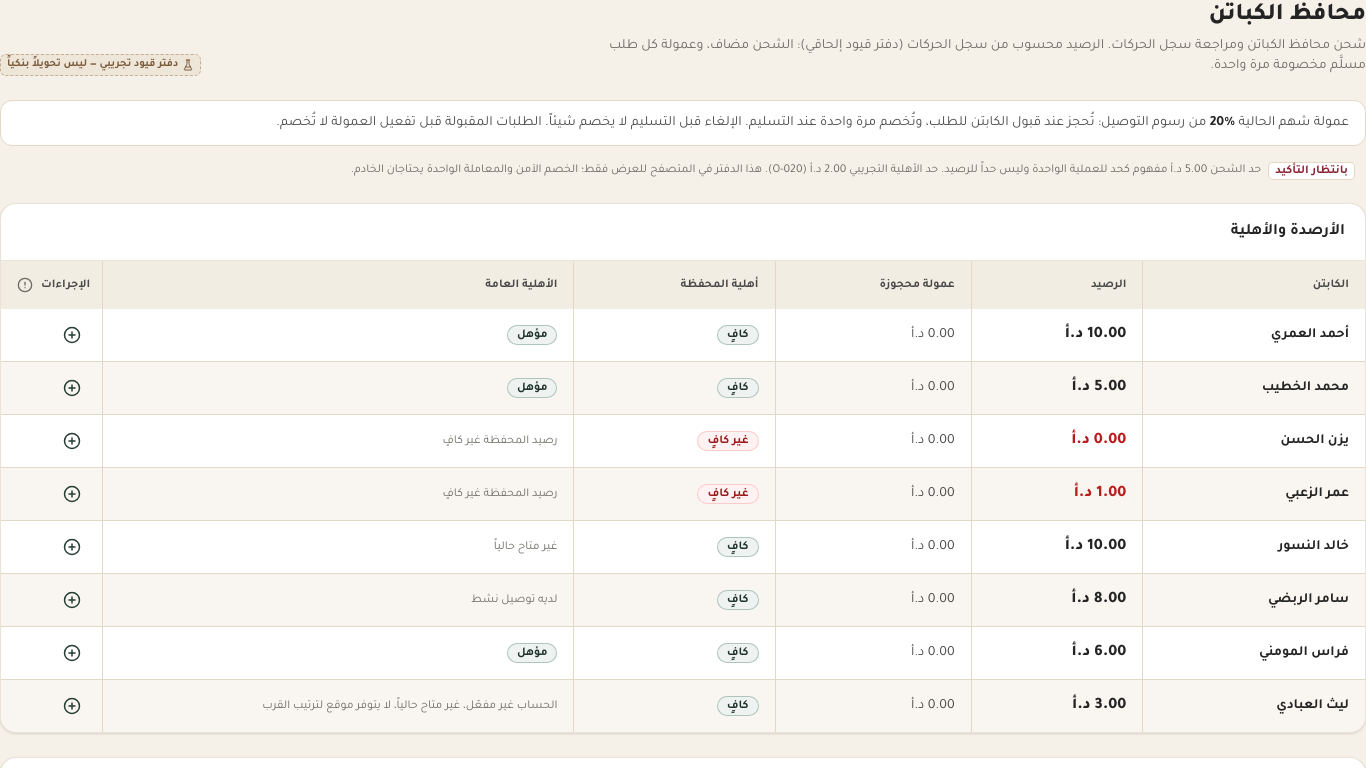
Test: 7 · top-up dialog: no «المرجع / السبب», 5 JOD cap, receipt confirmation › records exactly one credit
The image size is (1366, 768).
Later steps or results of the test are not shown.
Click the button named "شحن محفظة أحمد العمري". click: point(72, 335)
box: [54, 317, 90, 353]
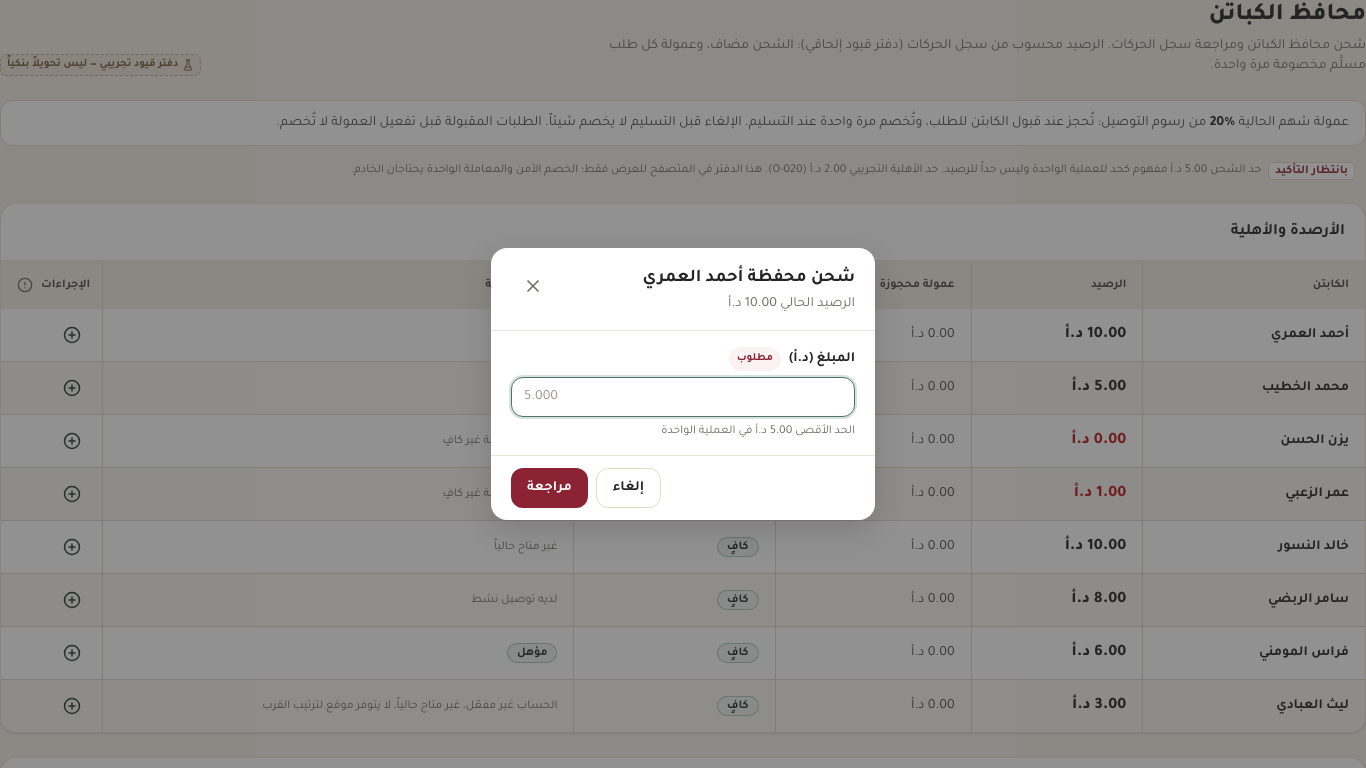
Type "6" into the field with placeholder "5.000". click: point(683, 397)
box: [511, 377, 855, 417]
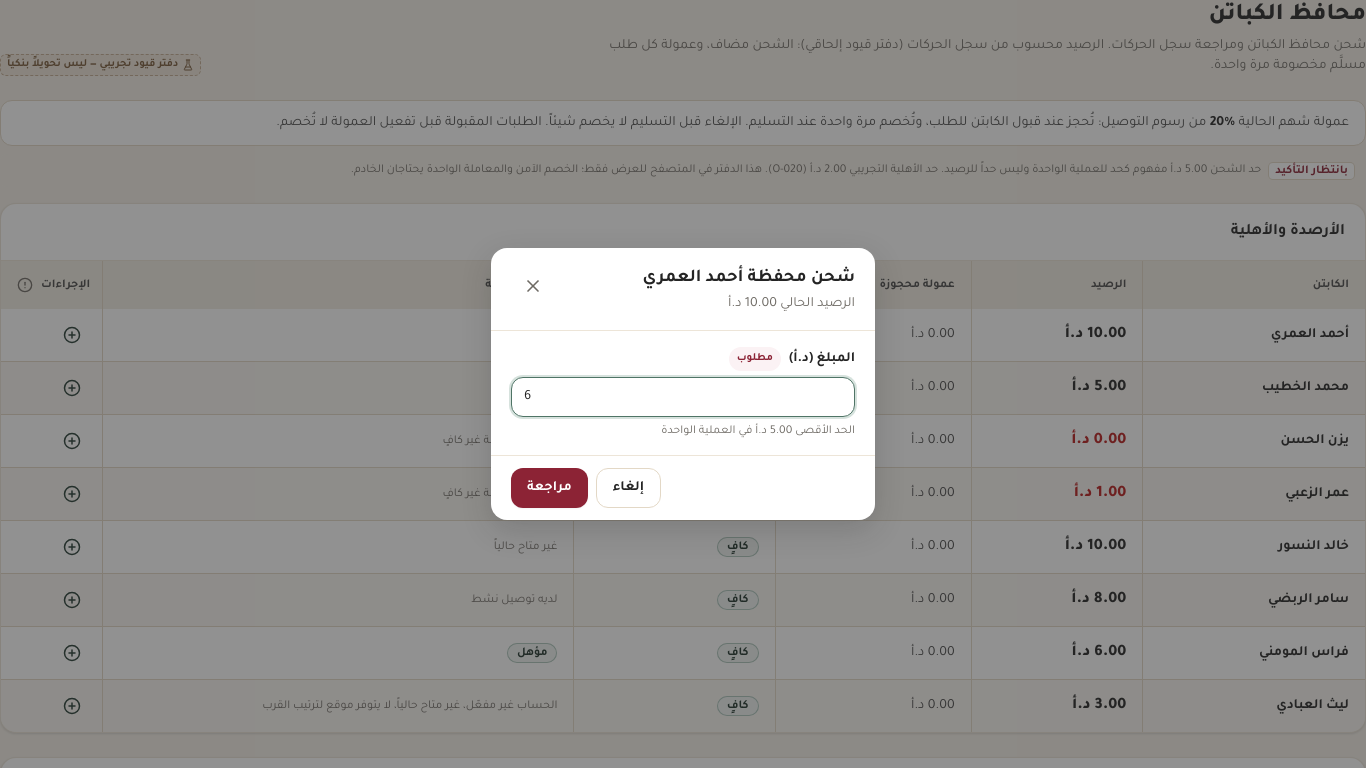
Click the button "مراجعة". click: point(549, 488)
box: [511, 468, 588, 508]
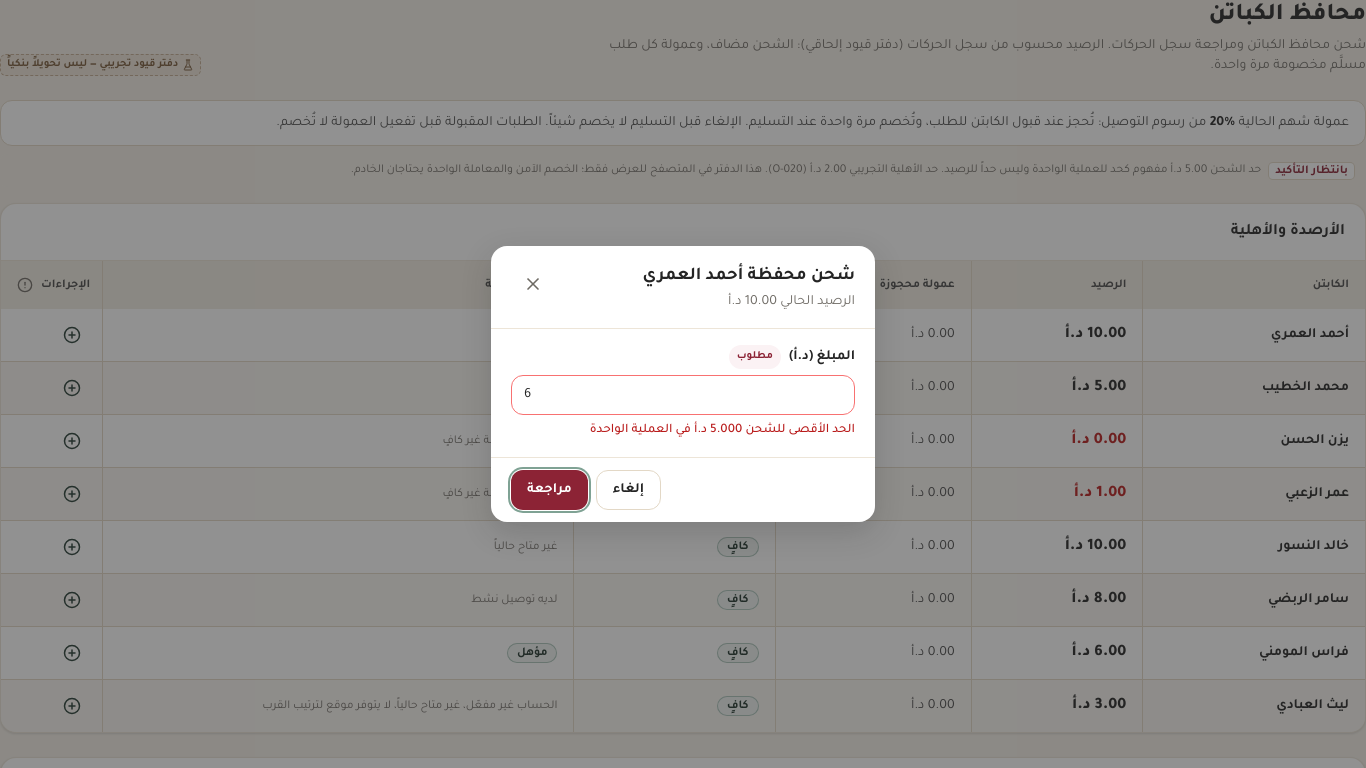
Expected: the text "الحد الأقصى للشحن 5.000 د.أ في العملية الواحدة" is shown, [590, 424, 855, 437]
Replace the text in the field with placeholder "5.000" with "5". click: point(683, 395)
box: [511, 375, 855, 415]
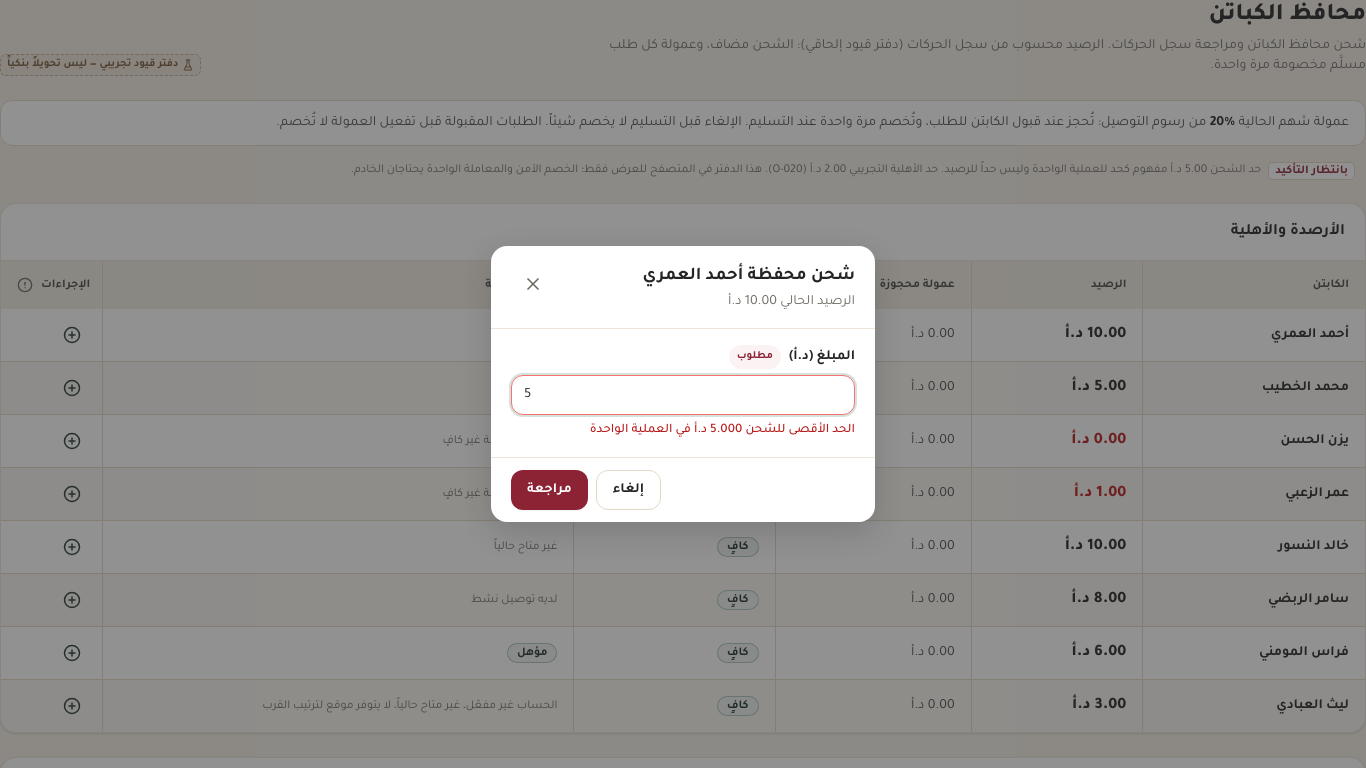
Click the button "مراجعة". click: point(549, 490)
box: [511, 470, 588, 510]
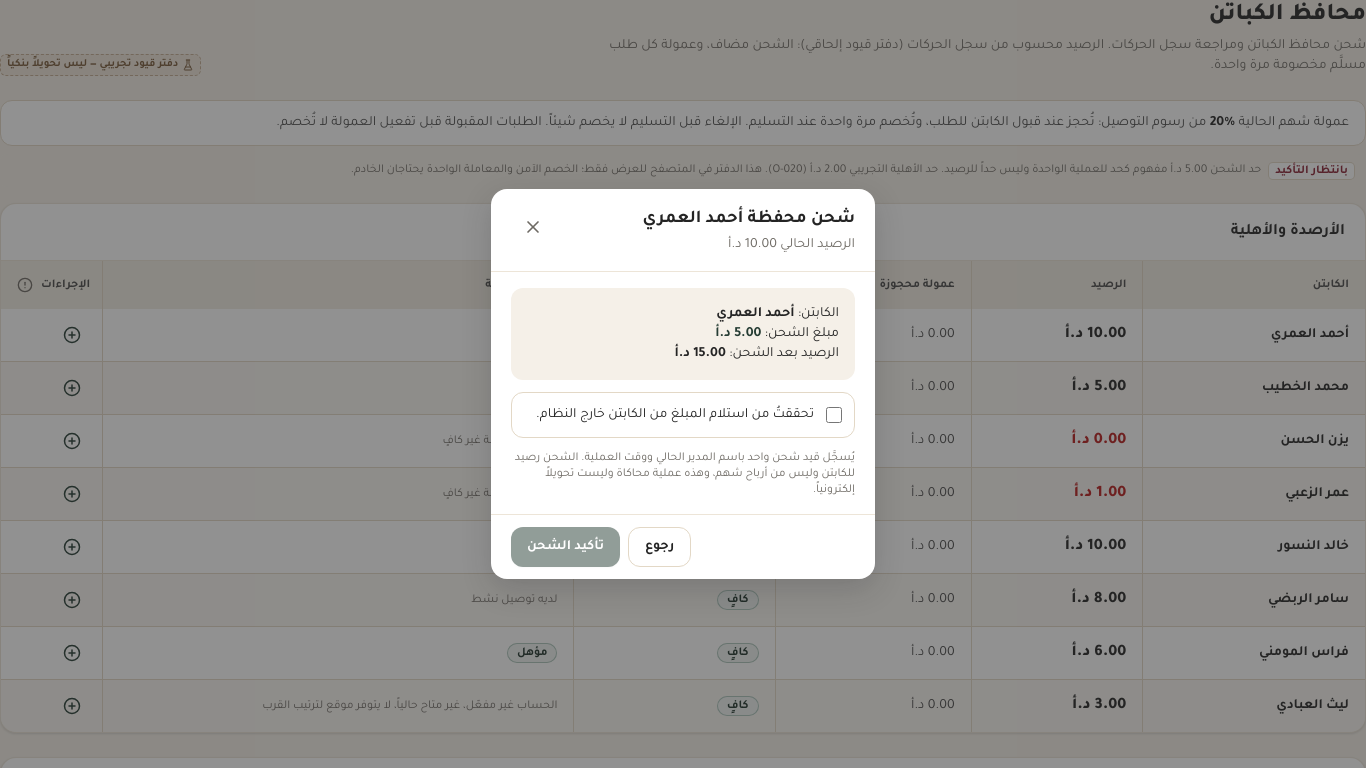
Expected: the button "تأكيد الشحن" is disabled, [511, 527, 620, 567]
